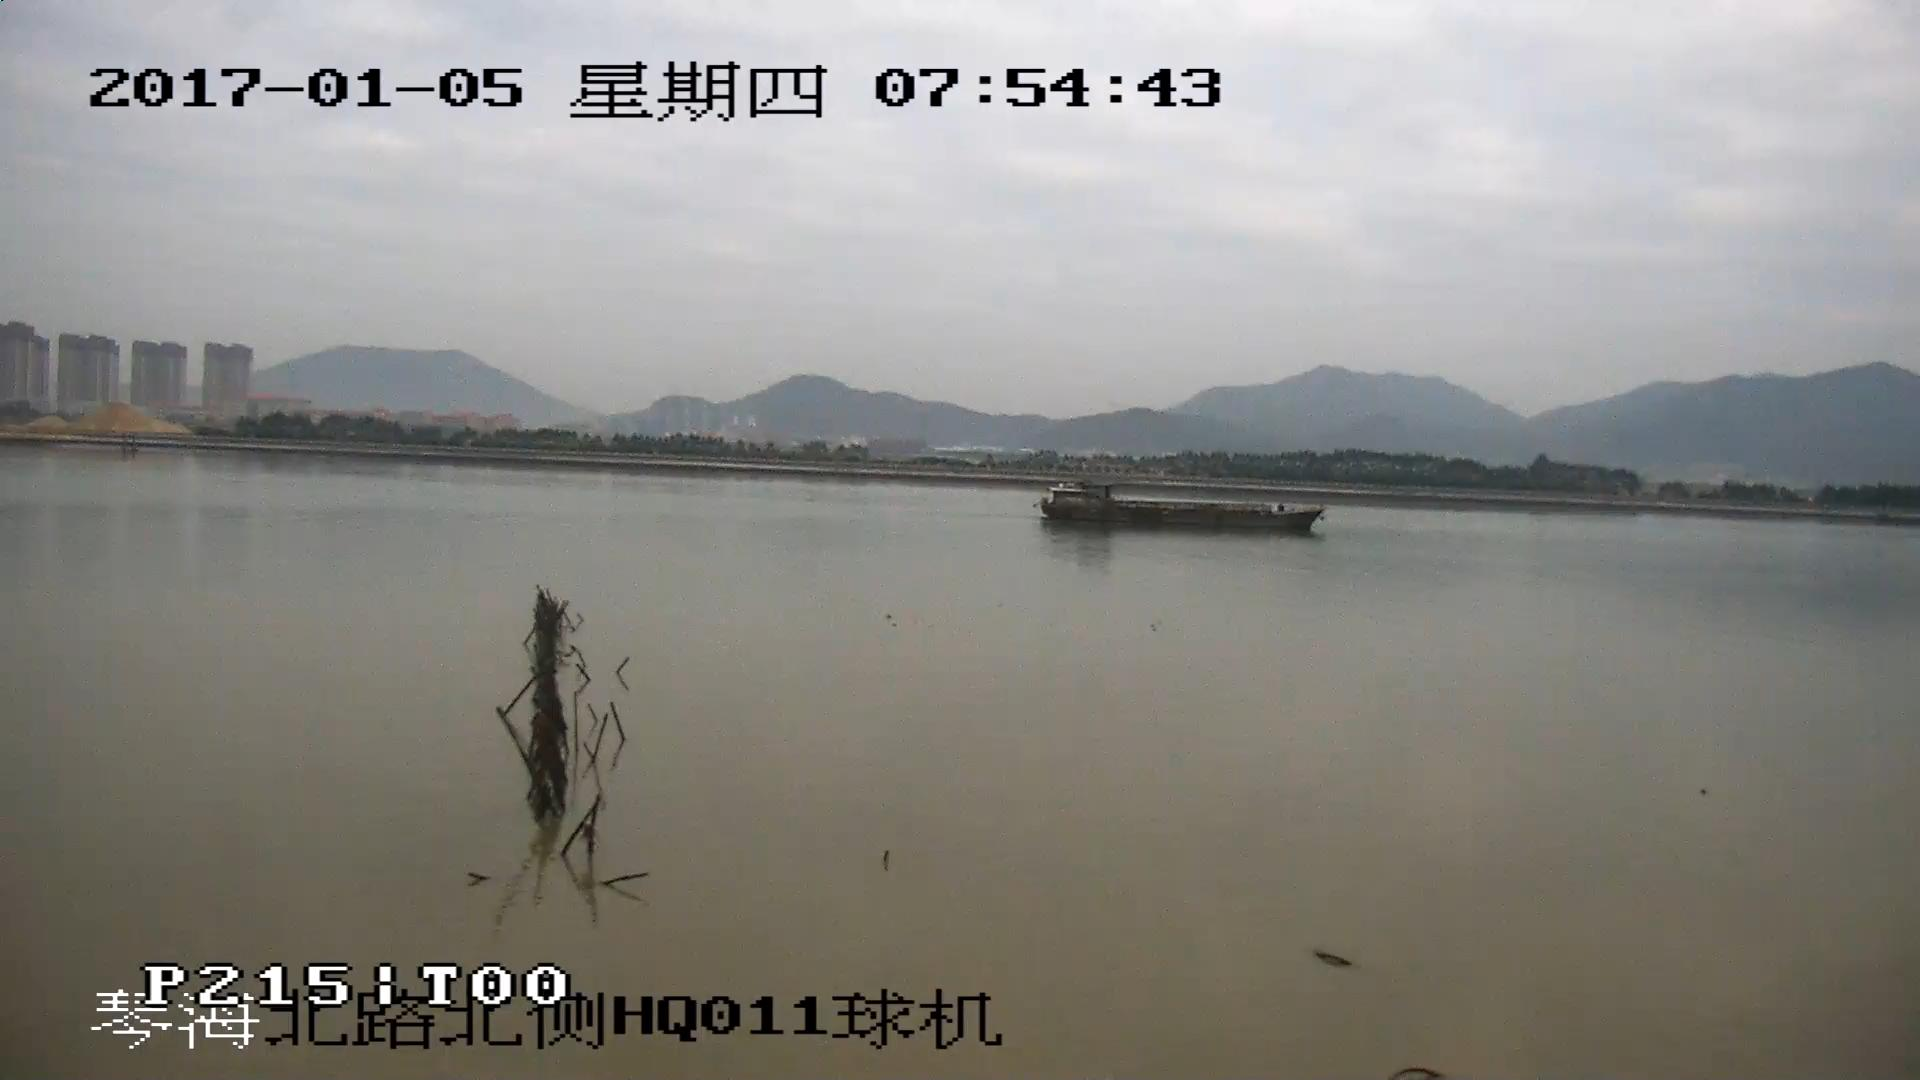bulk cargo carrier: (1037, 480, 1326, 533)
